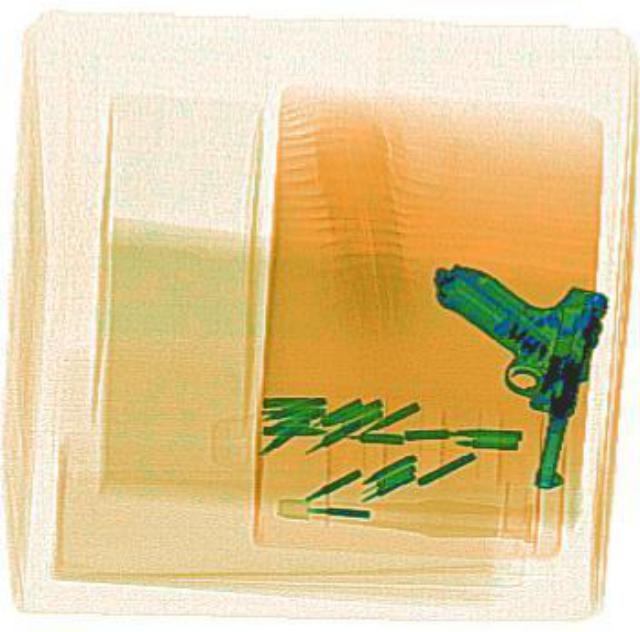Gun: (384, 253, 608, 488)
